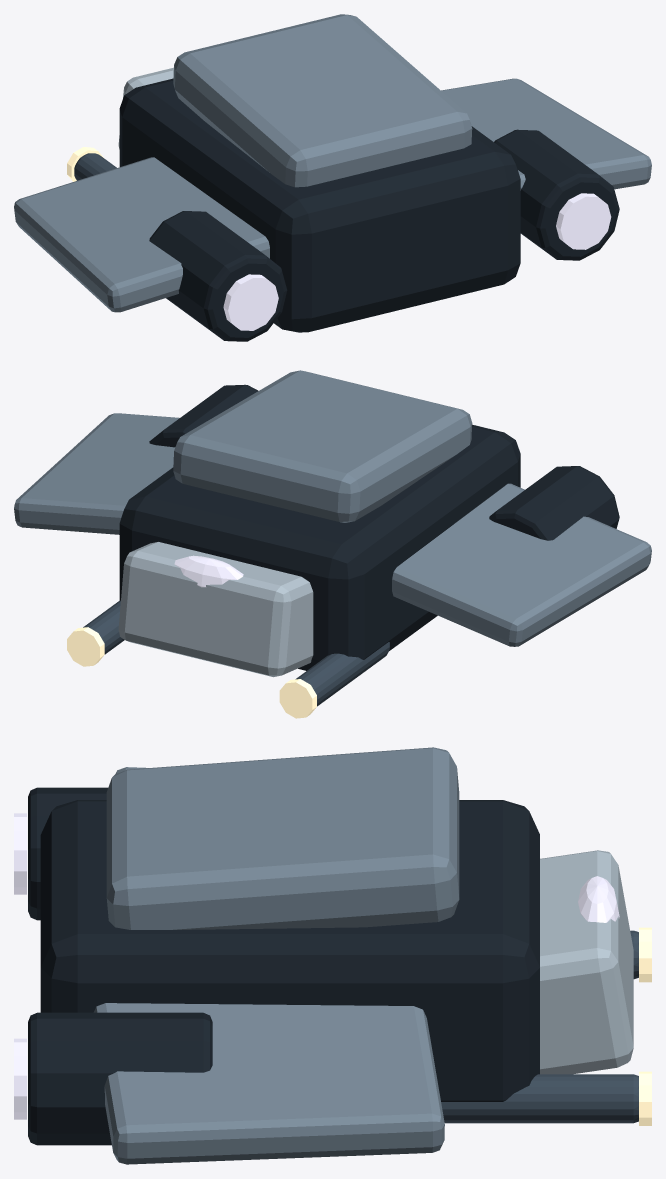
Rendered from gunship.glb.
3 renders of one model, top to bottom at view 1: azimuth 30°, elevation 25°; view 2: azimuth 150°, elevation 25°; view 3: azimuth 270°, elevation 25°, orthographic. The views are drawn at different scales.
Parts seen in each view (by area): view 1: Fuselage, TopArmor, WingBlade_-1, WingBlade_1, Engine_-1, Engine_1, EngineGlow_-1, EngineGlow_1, Cannon_-1, NoseWedge; view 2: Fuselage, TopArmor, WingBlade_-1, NoseWedge, WingBlade_1, Engine_-1, Cannon_-1, Engine_1, CommandEye, MuzzleGlow_-1, MuzzleGlow_1, Cannon_1; view 3: Fuselage, TopArmor, WingBlade_1, NoseWedge, Engine_1, Cannon_1, Engine_-1, CommandEye, EngineGlow_1, EngineGlow_-1, MuzzleGlow_-1, MuzzleGlow_1.
Part boxes in pixels (bbox=[...]): Fuselage: bbox=[119, 78, 520, 332]; TopArmor: bbox=[173, 14, 472, 187]; WingBlade_-1: bbox=[14, 157, 269, 312]; WingBlade_1: bbox=[441, 78, 651, 190]; Engine_-1: bbox=[149, 211, 287, 341]; Engine_1: bbox=[494, 129, 619, 260]; EngineGlow_-1: bbox=[223, 274, 278, 330]; EngineGlow_1: bbox=[556, 193, 611, 249]; Cannon_-1: bbox=[74, 153, 116, 180]; NoseWedge: bbox=[118, 67, 173, 149]; Fuselage: bbox=[119, 424, 520, 670]; TopArmor: bbox=[173, 370, 472, 522]; WingBlade_-1: bbox=[392, 483, 651, 646]; NoseWedge: bbox=[118, 542, 313, 677]; WingBlade_1: bbox=[14, 413, 179, 534]; Engine_-1: bbox=[489, 466, 619, 540]; Cannon_-1: bbox=[295, 642, 389, 706]; Engine_1: bbox=[149, 384, 258, 447]; CommandEye: bbox=[174, 555, 243, 587]; MuzzleGlow_-1: bbox=[279, 679, 316, 718]; MuzzleGlow_1: bbox=[67, 627, 104, 666]; Cannon_1: bbox=[83, 600, 124, 654]; Fuselage: bbox=[40, 800, 539, 1101]; TopArmor: bbox=[106, 747, 459, 929]; WingBlade_1: bbox=[93, 1003, 444, 1164]; NoseWedge: bbox=[540, 850, 633, 1074]; Engine_1: bbox=[28, 1012, 212, 1145]; Cannon_1: bbox=[441, 1074, 638, 1123]; Engine_-1: bbox=[28, 787, 107, 920]; CommandEye: bbox=[578, 876, 619, 922]; EngineGlow_1: bbox=[14, 1038, 26, 1119]; EngineGlow_-1: bbox=[14, 813, 26, 894]; MuzzleGlow_-1: bbox=[639, 927, 651, 982]; MuzzleGlow_1: bbox=[639, 1071, 651, 1125].
Size of the model in its own units: 2.35 by 0.7478 by 1.72.
